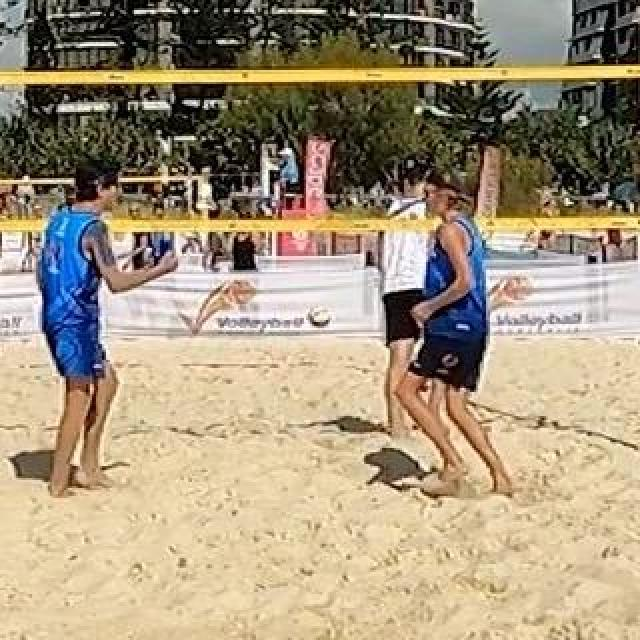volleyball: (309, 308, 329, 328)
